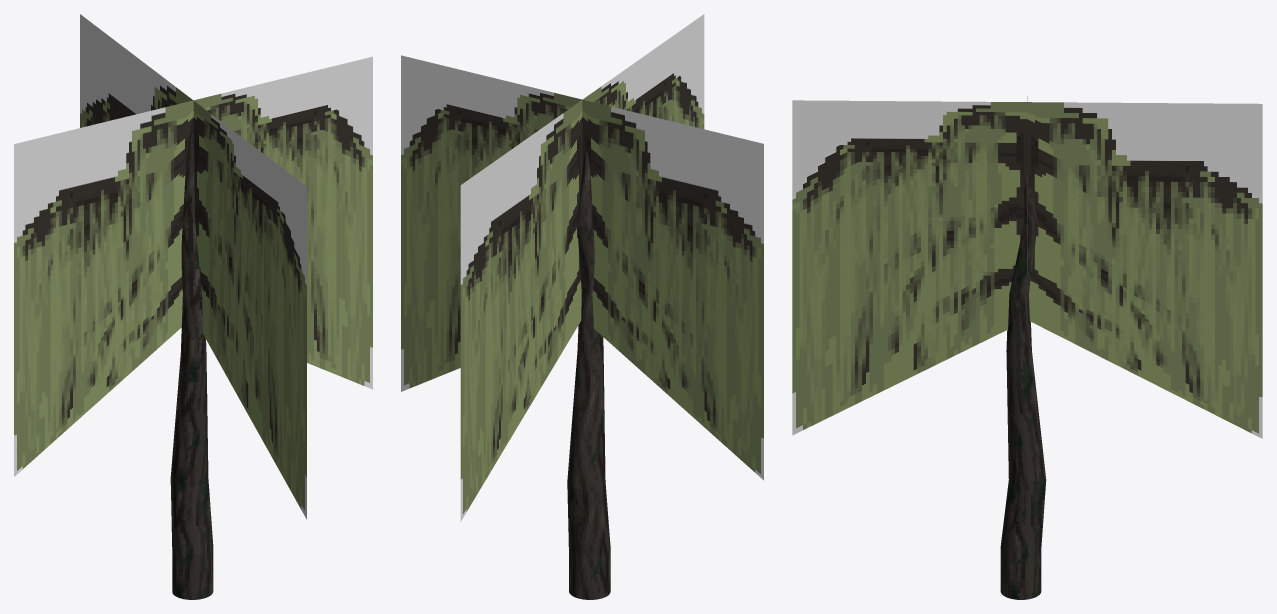
The model's file is tree3.fbx.
3 views of the same model, side by side, from view 1: azimuth 30°, elevation 25°; view 2: azimuth 150°, elevation 25°; view 3: azimuth 270°, elevation 25° (orthographic).
Visible parts, largest first — view 1: tree3_leafs; view 2: tree3_leafs; view 3: tree3_leafs.
Boxes of the visible parts, box(x1,y1,x2,y2) form: tree3_leafs: box(14, 14, 372, 599); tree3_leafs: box(401, 14, 763, 599); tree3_leafs: box(792, 96, 1262, 599).
Bounding box in the file's own units: 817 × 1061 × 922.
